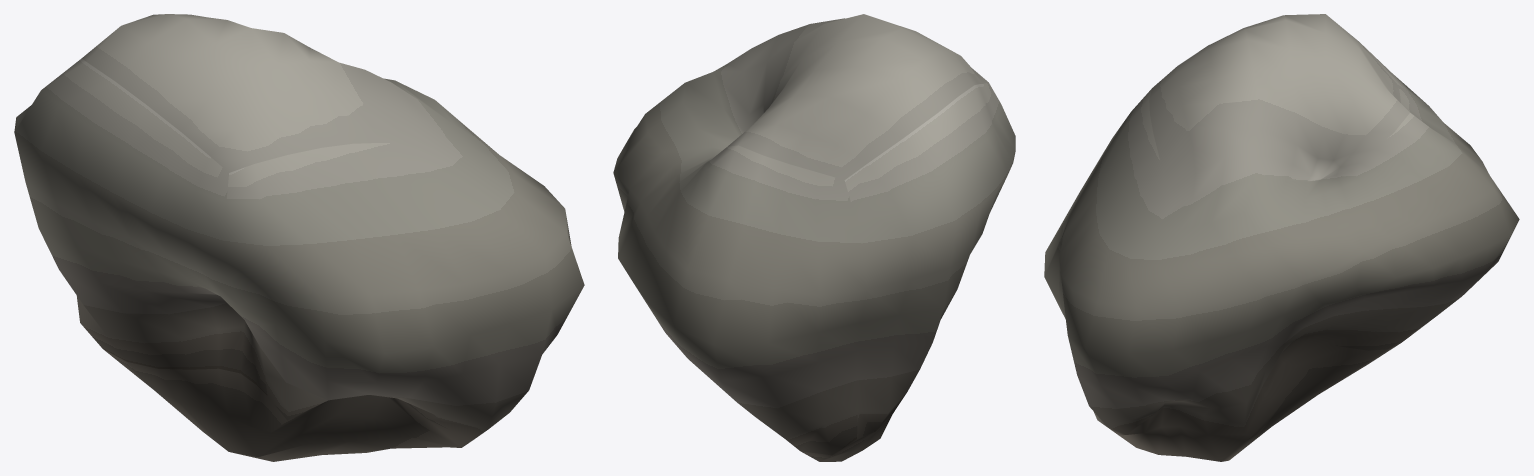
The model's file is DL_Obj_Level5_MineRock2.fbx.
3 renders of one model, left to right at view 1: azimuth 30°, elevation 25°; view 2: azimuth 150°, elevation 25°; view 3: azimuth 270°, elevation 25°, orthographic. The views are drawn at different scales.
Parts seen in each view (by area): view 1: Level5_MineRock02; view 2: Level5_MineRock02; view 3: Level5_MineRock02.
Boxes of the visible parts, <box> form: Level5_MineRock02: <box>14,14,584,461</box>; Level5_MineRock02: <box>613,14,1015,461</box>; Level5_MineRock02: <box>1044,14,1519,461</box>.
Bounding box in the file's own units: 172 × 175 × 199.
